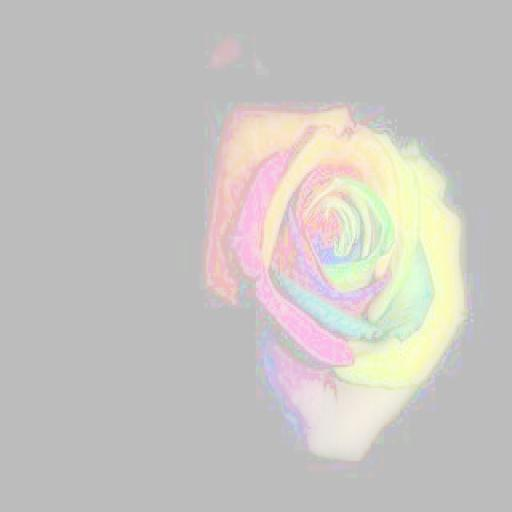rose: (210, 100, 460, 442)
